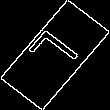L_SE: (23, 27, 87, 83)
